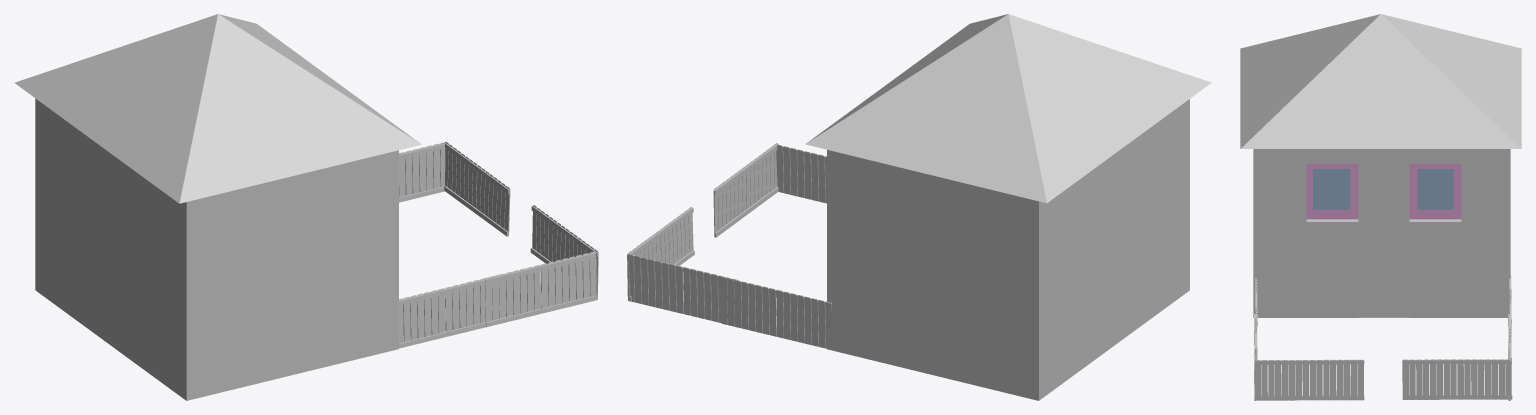
Rendered from haus6 mit vorgarten.fbx.
3 views of the same model, side by side, from view 1: azimuth 30°, elevation 25°; view 2: azimuth 150°, elevation 25°; view 3: azimuth 270°, elevation 25° (orthographic). The views are drawn at different scales.
Parts seen in each view (by area): view 1: haus; view 2: haus; view 3: haus.
Part boxes in pixels (x1,y1,x2,y2): haus: (14,14,598,400); haus: (627,14,1211,400); haus: (1240,14,1521,400).
Bounding box in the file's own units: 1174 × 1754 × 1200.
